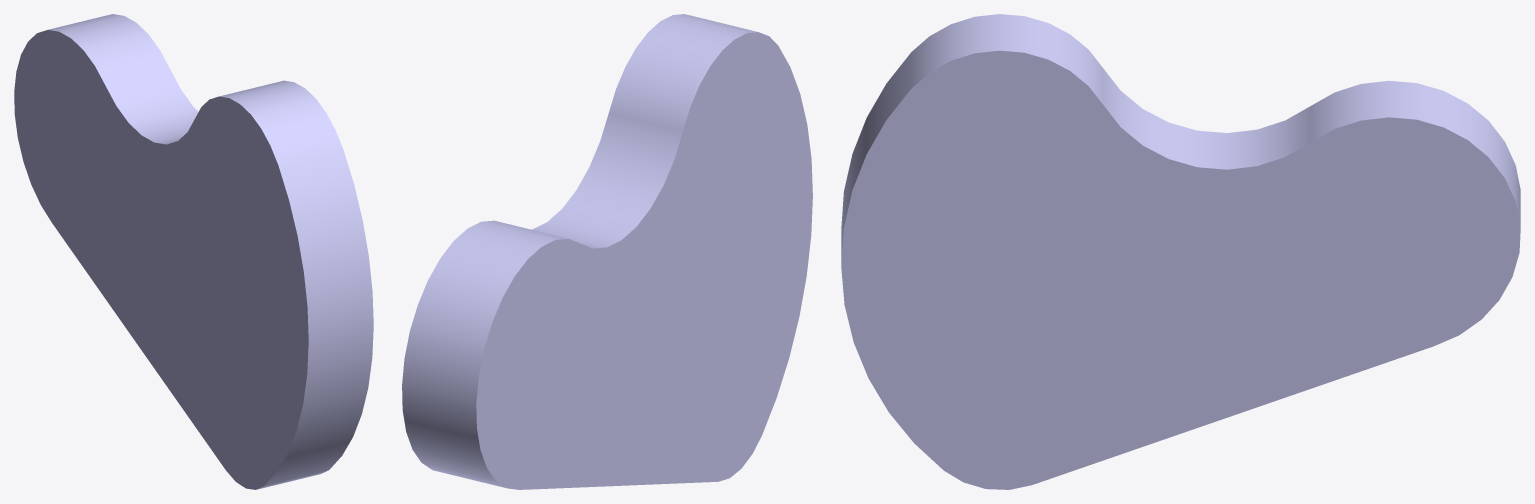
Rendered from 15 Biela Curva.fbx.
3 renders of one model, left to right at view 1: azimuth 30°, elevation 25°; view 2: azimuth 150°, elevation 25°; view 3: azimuth 270°, elevation 25°, orthographic. The views are drawn at different scales.
Parts seen in each view (by area): view 1: PartBody; view 2: PartBody; view 3: PartBody.
Boxes of the visible parts, x1=… form: PartBody: x1=14, y1=14, x2=373, y2=489; PartBody: x1=402, y1=14, x2=812, y2=489; PartBody: x1=841, y1=14, x2=1520, y2=489.
Size of the model in its own units: 0.7874 by 4.41 by 6.18.
